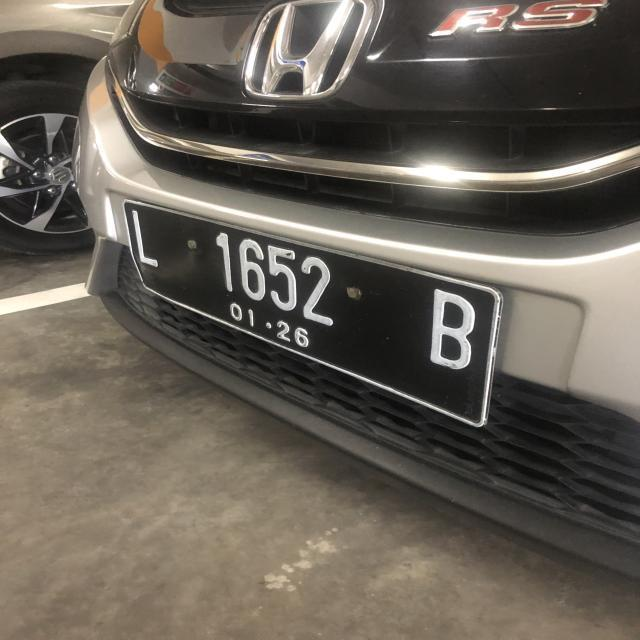1: (214, 229, 240, 292)
2: (300, 251, 340, 327)
5: (266, 240, 296, 314)
6: (238, 230, 267, 305)
B: (421, 290, 475, 376)
L: (126, 204, 166, 274)
